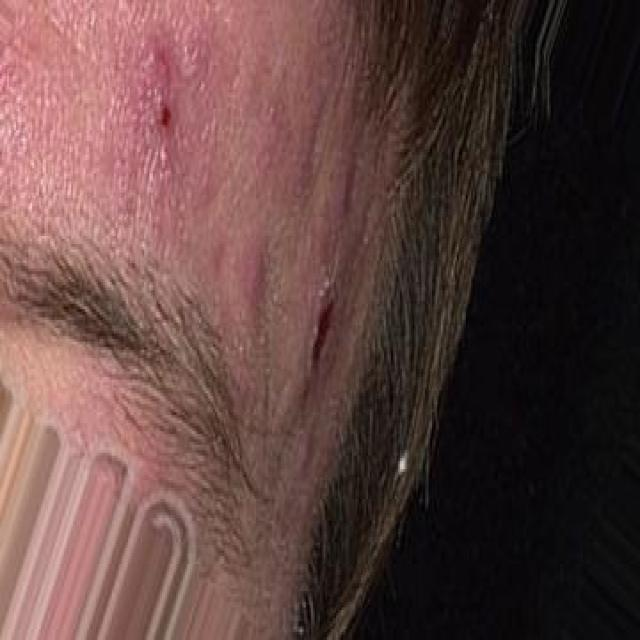Rosacea: (0, 0, 340, 373)
